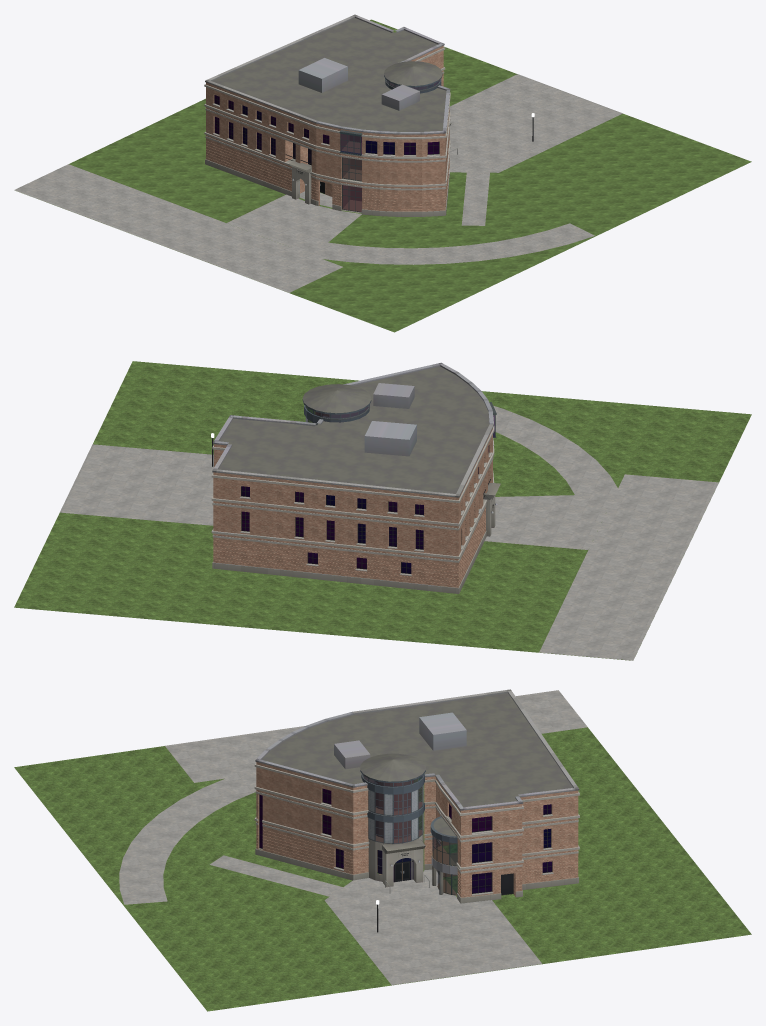
Rendered from koffler-house.glb.
3 views of the same model, one above another, from view 1: azimuth 30°, elevation 25°; view 2: azimuth 150°, elevation 25°; view 3: azimuth 270°, elevation 25° (orthographic). The views are drawn at different scales.
Parts seen in each view (by area): view 1: KofflerHouse_Lawn, KofflerHouse_Paving, KofflerHouse_Roof, KofflerHouse_Walls, KofflerHouse_Trim, KofflerHouse_Glass, KofflerHouse_CurtainGlass, KofflerHouse_Interior; view 2: KofflerHouse_Lawn, KofflerHouse_Paving, KofflerHouse_Walls, KofflerHouse_Roof, KofflerHouse_Trim, KofflerHouse_Glass; view 3: KofflerHouse_Lawn, KofflerHouse_Paving, KofflerHouse_Roof, KofflerHouse_Walls, KofflerHouse_Trim, KofflerHouse_Glass, KofflerHouse_CurtainGlass, KofflerHouse_Interior.
Part boxes in pixels (bbox=[...]): KofflerHouse_Lawn: bbox=[16, 19, 751, 332]; KofflerHouse_Paving: bbox=[14, 74, 622, 292]; KofflerHouse_Roof: bbox=[212, 18, 446, 131]; KofflerHouse_Walls: bbox=[206, 46, 449, 211]; KofflerHouse_Trim: bbox=[204, 14, 533, 216]; KofflerHouse_Glass: bbox=[214, 95, 438, 164]; KofflerHouse_CurtainGlass: bbox=[340, 80, 439, 211]; KofflerHouse_Interior: bbox=[341, 85, 429, 211]; KofflerHouse_Lawn: bbox=[14, 361, 751, 660]; KofflerHouse_Paving: bbox=[60, 406, 718, 660]; KofflerHouse_Walls: bbox=[213, 428, 492, 587]; KofflerHouse_Roof: bbox=[218, 366, 489, 493]; KofflerHouse_Trim: bbox=[211, 362, 500, 593]; KofflerHouse_Glass: bbox=[241, 446, 488, 573]; KofflerHouse_Lawn: bbox=[14, 727, 751, 1011]; KofflerHouse_Paving: bbox=[119, 690, 587, 985]; KofflerHouse_Roof: bbox=[261, 693, 572, 837]; KofflerHouse_Walls: bbox=[256, 762, 578, 897]; KofflerHouse_Trim: bbox=[254, 689, 579, 932]; KofflerHouse_Glass: bbox=[259, 788, 551, 893]; KofflerHouse_CurtainGlass: bbox=[363, 775, 457, 894]; KofflerHouse_Interior: bbox=[375, 780, 457, 895].
Bounding box in the file's own units: 86.06 × 13.85 × 83.54.
9 materials, 6 textured.
